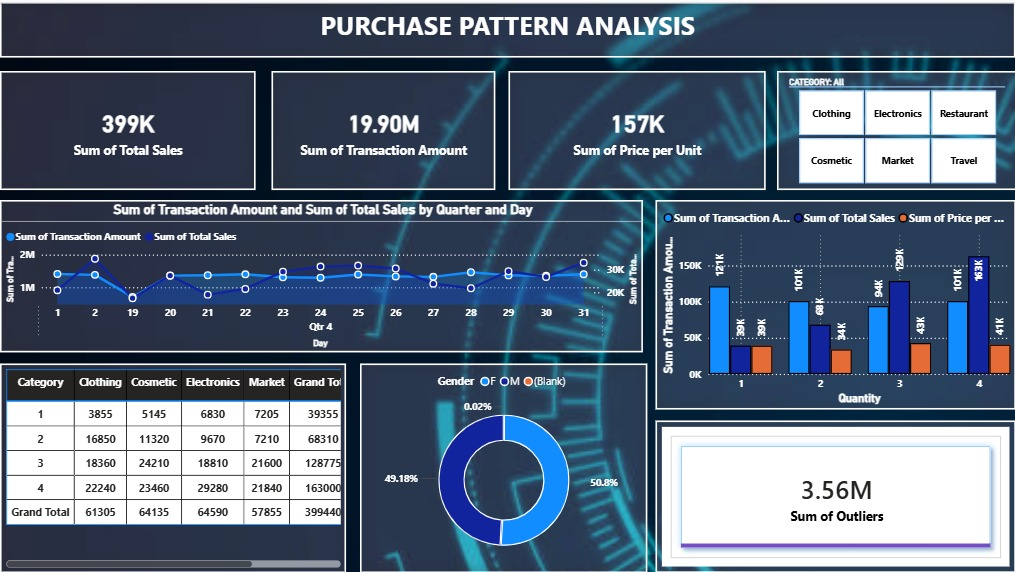

The page's visual inventory and layout, read from the dashboard file:
{"tool":"powerbi","page":{"name":"DASHBOARD","canvas":[1280,720],"ordinal":0},"visuals":[{"type":"clusteredColumnChart","title":"TRANSACTION","fields":{"Y":["Sum(Transactions_dataset.Transaction Amount)","Sum(Transactions_dataset.Total Sales)","Sum(Transactions_dataset.Price per Unit)"],"Category":["Transactions_dataset.Quantity"]},"box":[826,250,454,264],"z":0},{"type":"donutChart","title":"GENDER TRANSACTIONS","fields":{"Category":["Gender.Gender"],"Series":["Gender.Sum of Transaction Amount"],"Y":["Sum(Transactions_dataset.Transaction Amount)"]},"box":[454,456,362,264],"z":1000},{"type":"tableEx","fields":{"Values":["Category.Category","Category.Clothing","Category.Cosmetic","Category.Electronics","Category.Market","Category.Grand Total","Category.Restaurant","Category.Travel"]},"box":[0,456,436,264],"z":2000},{"type":"cardVisual","fields":{"Data":["Sum(Transactions_dataset.Outliers)"]},"box":[826,528,454,192],"z":3000},{"type":"lineChart","fields":{"Category":["Transactions_dataset.Birthdate.Variation.Date Hierarchy.Quarter","Transactions_dataset.Birthdate.Variation.Date Hierarchy.Day"],"Y2":["Sum(Transactions_dataset.Total Sales)"],"Y":["Sum(Transactions_dataset.Transaction Amount)"]},"box":[0,250,810,192],"z":4000},{"type":"textbox","box":[0,0,1279.4,69.9],"z":5000},{"type":"slicer","fields":{"Values":["Transactions_dataset.Product Category"]},"box":[978,86,302,150],"z":6000},{"type":"card","fields":{"Values":["Sum(Transactions_dataset.Total Sales)"]},"box":[0,86,322,150],"z":7000},{"type":"card","fields":{"Values":["Sum(Transactions_dataset.Transaction Amount)"]},"box":[342,86,282,150],"z":8000},{"type":"card","fields":{"Values":["Sum(Transactions_dataset.Price per Unit)"]},"box":[640,86,324,150],"z":9000}]}

Visuals, with their boxes in screenshot pixels (x1, y1, x2, y2), scaled from the page's 1280x720 canvas onto the 1015x572 screenshot:
"TRANSACTION" clusteredColumnChart: l=655, t=199, r=1014, b=408
"GENDER TRANSACTIONS" donutChart: l=360, t=362, r=647, b=571
tableEx - Category.Category x Category.Clothing: l=0, t=362, r=346, b=571
cardVisual - Sum(Transactions_dataset.Outliers): l=655, t=419, r=1014, b=571
lineChart - Transactions_dataset.Birthdate.Variation.Date Hierarchy.Quarter x Transactions_dataset.Birthdate.Variation.Date Hierarchy.Day: l=0, t=199, r=642, b=351
textbox: l=0, t=0, r=1014, b=56
slicer - Transactions_dataset.Product Category: l=776, t=68, r=1014, b=187
card - Sum(Transactions_dataset.Total Sales): l=0, t=68, r=255, b=187
card - Sum(Transactions_dataset.Transaction Amount): l=271, t=68, r=495, b=187
card - Sum(Transactions_dataset.Price per Unit): l=508, t=68, r=764, b=187
